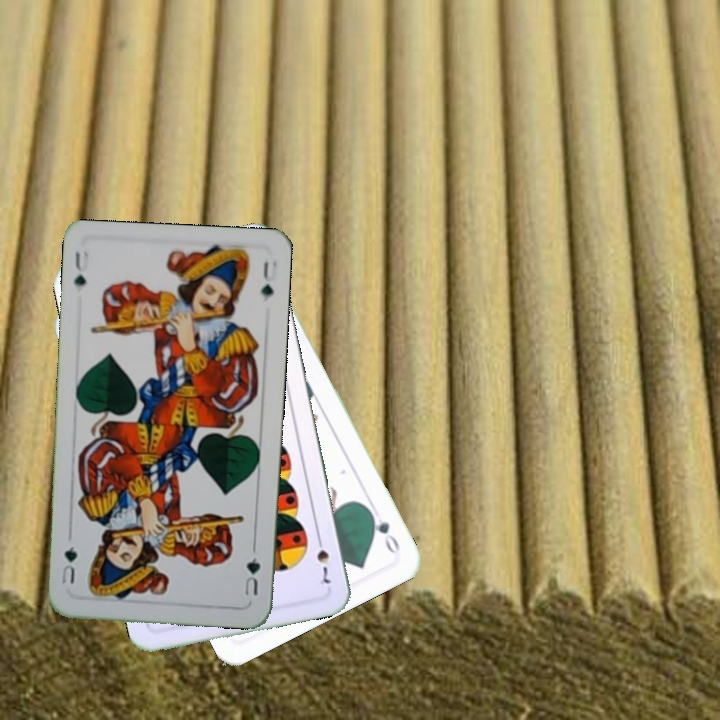GO: (364, 505, 403, 558)
GU: (240, 553, 263, 598), (70, 246, 91, 290)
S7: (312, 531, 334, 590)
